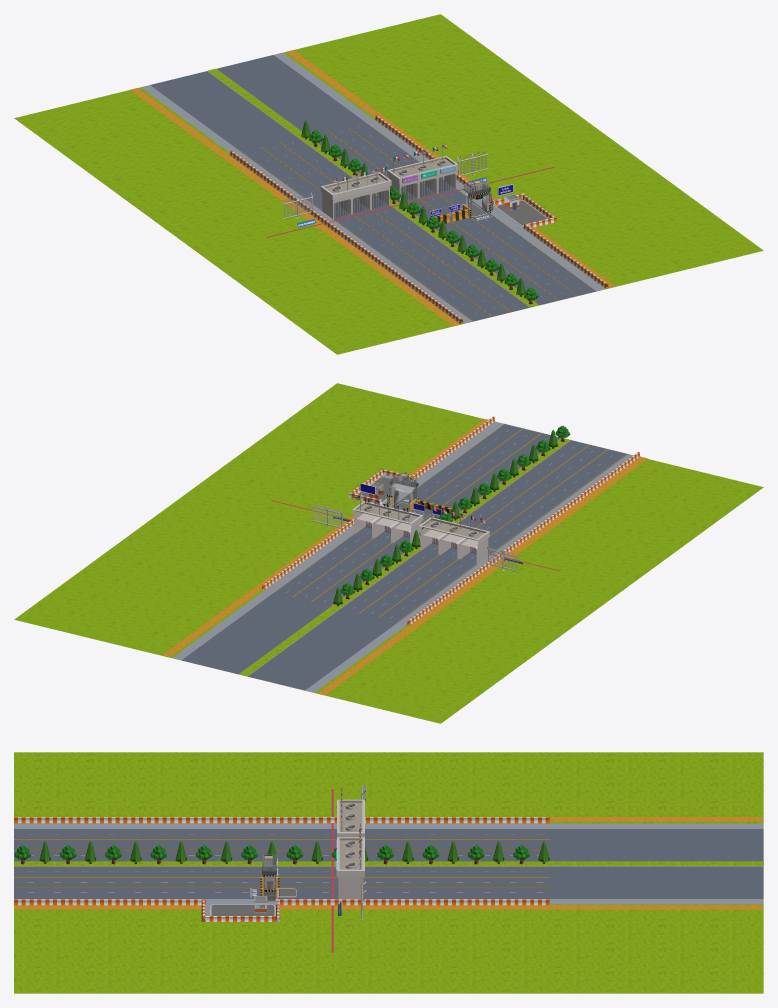
3 views of the same model, one above another, from view 1: azimuth 30°, elevation 25°; view 2: azimuth 150°, elevation 25°; view 3: azimuth 270°, elevation 25° (orthographic). The views are drawn at different scales.
Visible parts, largest first — view 1: ground-1, road, ground-2, divider-1, trees, gate-1, gate-2, fence, SM_Scanner_1; view 2: ground-1, road, ground-2, divider-1, trees, gate-1, gate-2, fence, SM_Scanner_1; view 3: ground-1, road, divider-1, ground-2, trees, gate-2, gate-1, SM_Scanner_1.
Boxes of the visible parts, x1,y1,x2,y2 form: ground-1: (14, 14, 763, 354); road: (141, 52, 605, 323); ground-2: (129, 50, 615, 326); divider-1: (230, 115, 608, 323); trees: (301, 120, 538, 304); gate-1: (320, 166, 391, 218); gate-2: (387, 144, 458, 202); fence: (282, 150, 488, 219); SM_Scanner_1: (462, 179, 493, 217); ground-1: (14, 383, 763, 723); road: (172, 421, 633, 692); ground-2: (163, 419, 648, 694); divider-1: (261, 416, 640, 625); trees: (333, 425, 570, 606); gate-1: (419, 505, 489, 563); gate-2: (352, 495, 423, 543); fence: (311, 504, 518, 571); SM_Scanner_1: (387, 472, 418, 511); ground-1: (14, 752, 763, 993); road: (14, 789, 763, 952); divider-1: (14, 817, 549, 921); ground-2: (14, 816, 763, 910); trees: (14, 841, 549, 864); gate-2: (335, 823, 364, 898); gate-1: (337, 787, 364, 837); SM_Scanner_1: (262, 854, 279, 901).
Size of the model in its own units: 58.46 by 5.14 by 76.72.
Materials: 26 (10 with a texture image).
